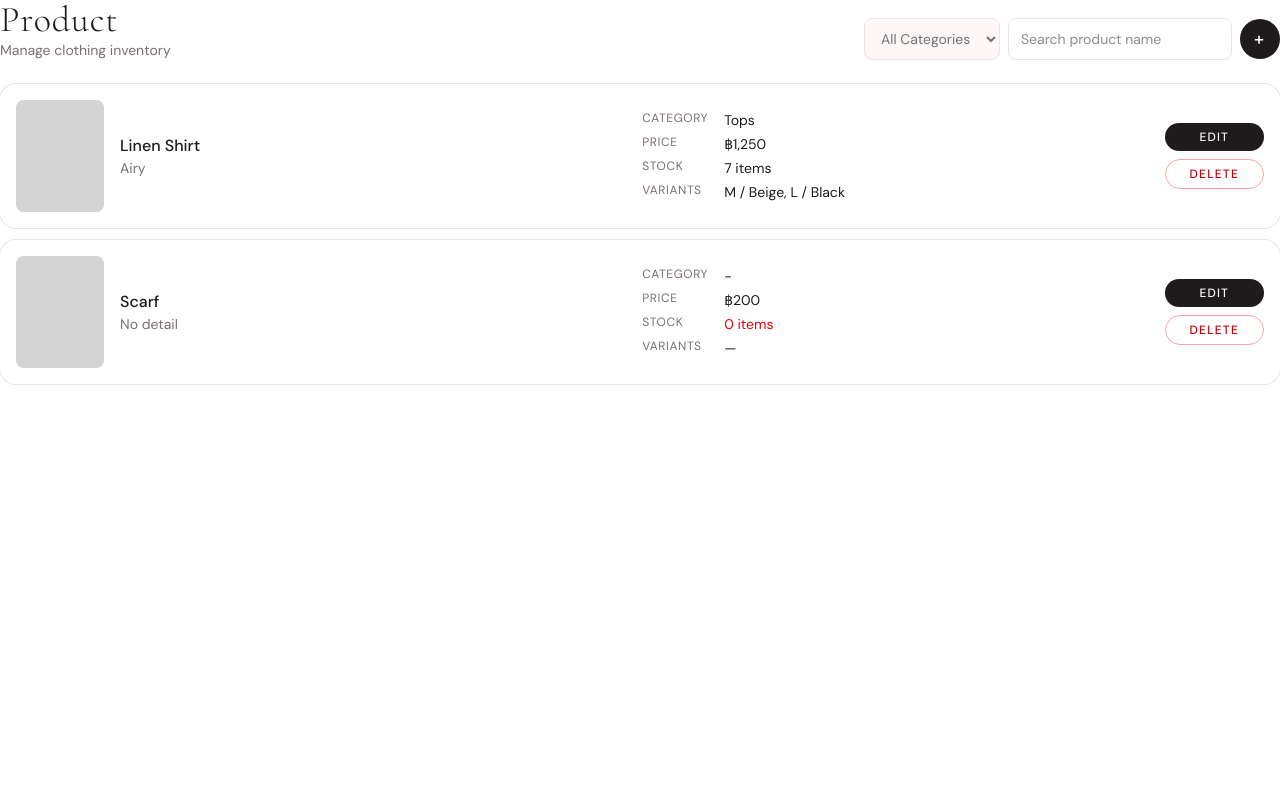
Test case: ProductsView › closes the dialog with Cancel
Click the button named "Add product". click: (1260,39)
box: [1240,19,1279,59]
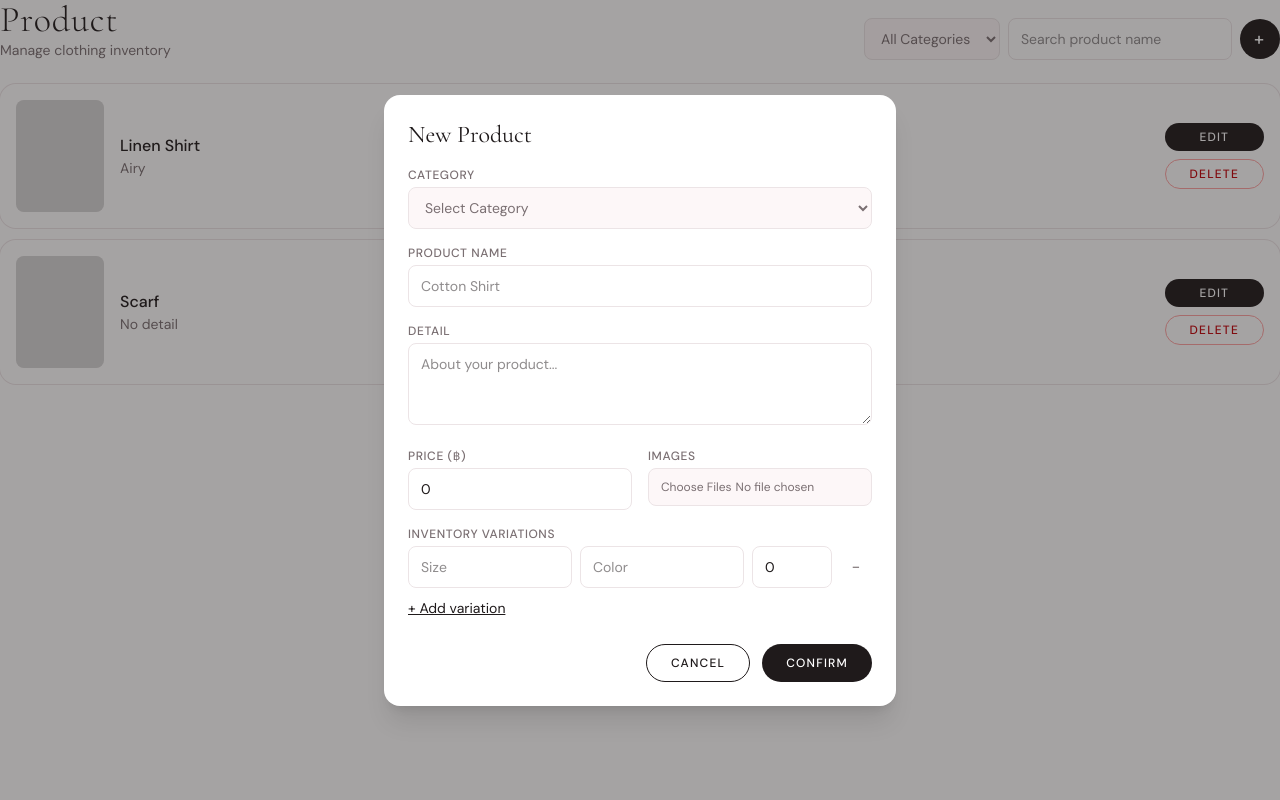
Click the button "Cancel". click: (698,662)
box: [646,644,750,682]
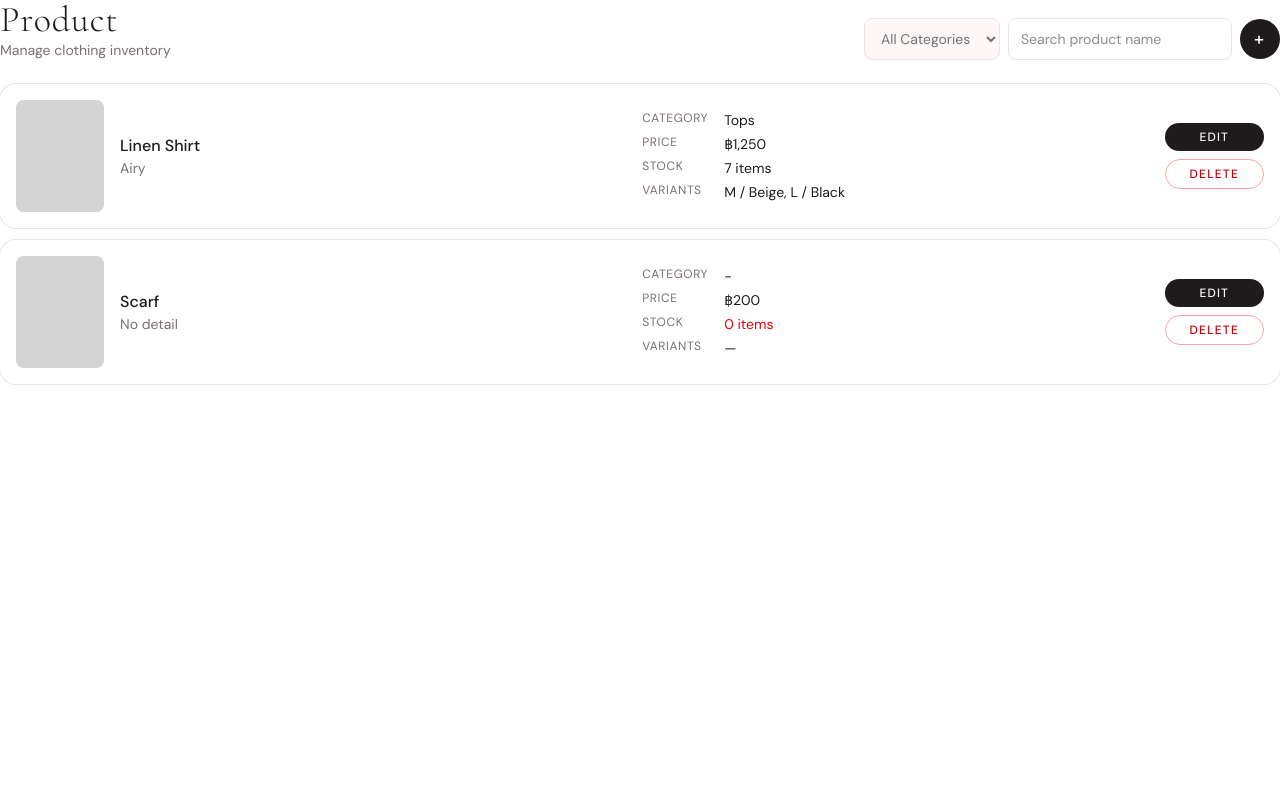
expect the text "New Product" is gone: met
